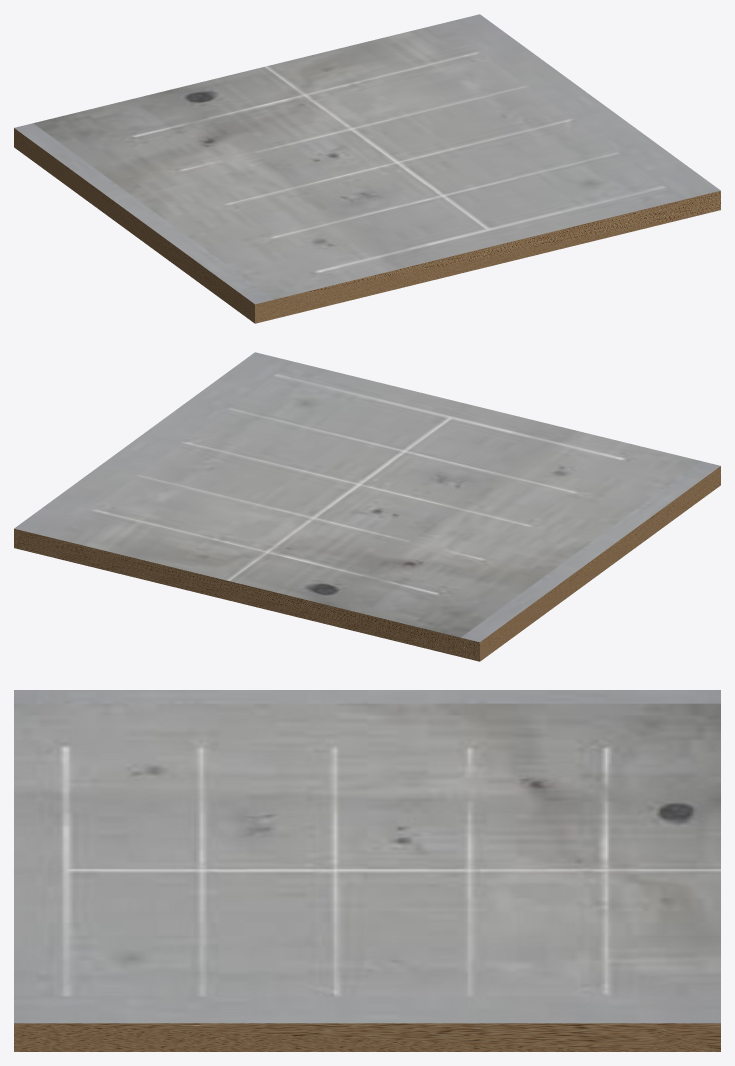
Rendered from parking.FBX.
3 views of the same model, one above another, from view 1: azimuth 30°, elevation 25°; view 2: azimuth 150°, elevation 25°; view 3: azimuth 270°, elevation 25° (orthographic). The views are drawn at different scales.
Parts seen in each view (by area): view 1: Object003; view 2: Object003; view 3: Object003.
Part boxes in pixels (left/top/right/bottom): Object003: left=14, top=14, right=720, bottom=323; Object003: left=14, top=352, right=720, bottom=661; Object003: left=14, top=690, right=720, bottom=1051.
Bounding box in the file's own units: 30.91 × 1.23 × 27.69.
Materials: 2 (2 with a texture image).
